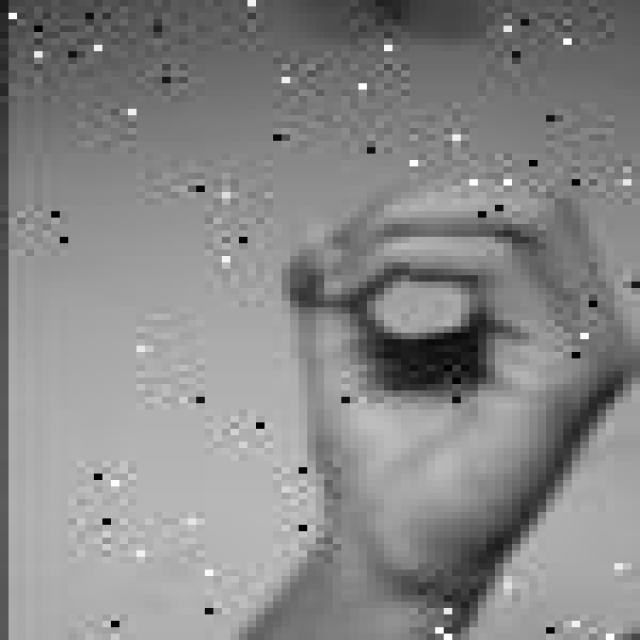O: (277, 166, 636, 570)
